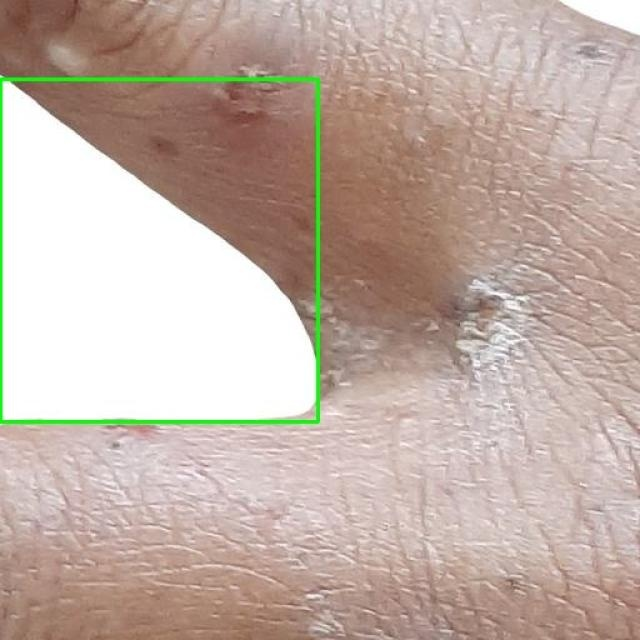Scabies: (0, 79, 318, 421)
